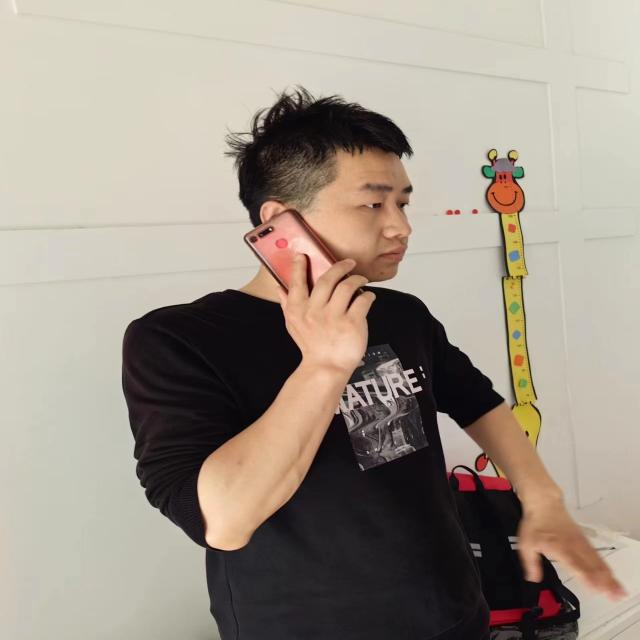phone: (242, 208, 362, 318)
